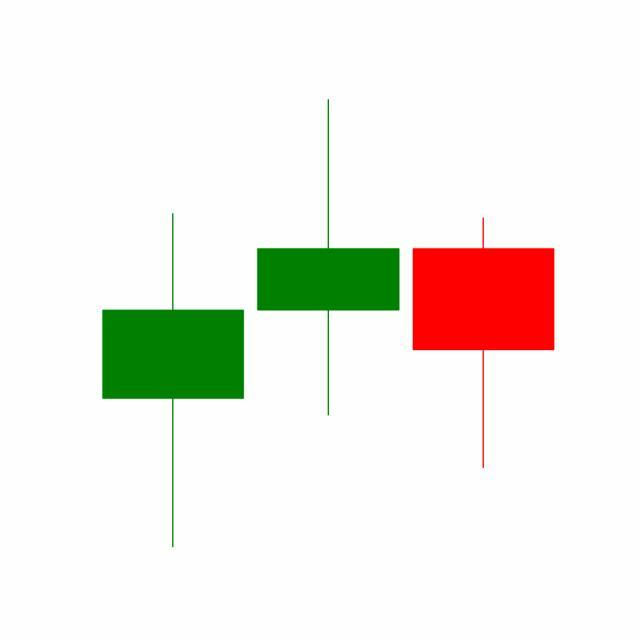Hammer: (406, 215, 562, 471)
